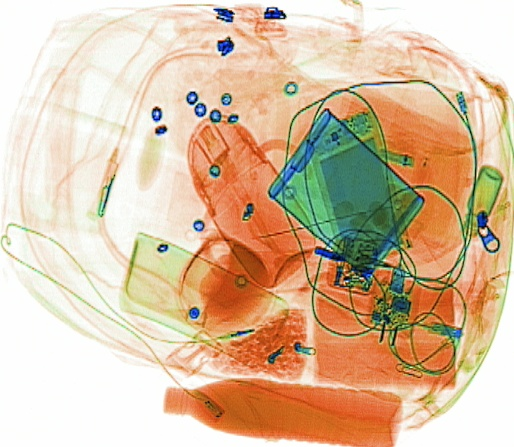zippooil: (265, 105, 425, 277)
